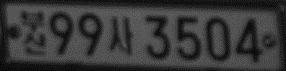0: (205, 16, 231, 62)
3: (144, 15, 170, 59)
4: (235, 17, 262, 61)
5: (175, 15, 201, 61)
9: (48, 12, 74, 55), (77, 12, 102, 56)
부산_V: (20, 9, 48, 55)
사: (108, 17, 134, 55)
